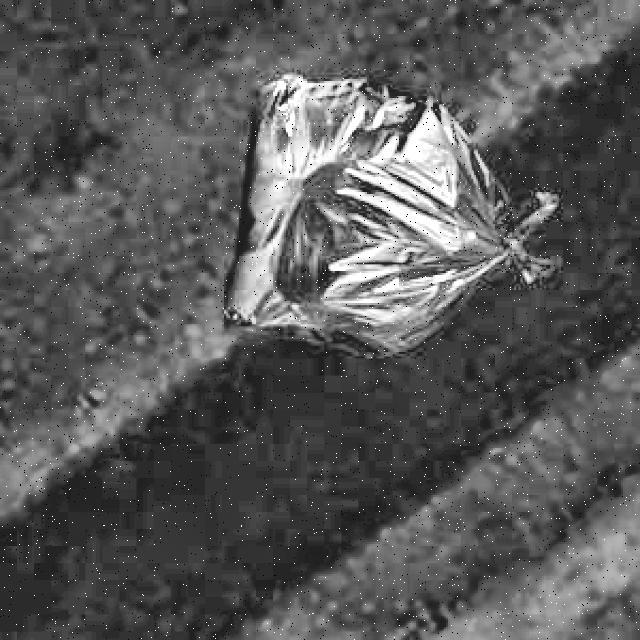Trashbag: (210, 59, 562, 361)
